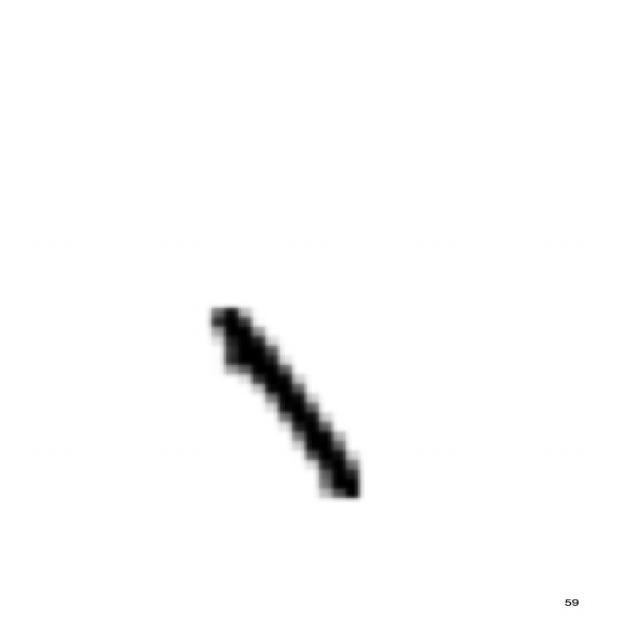1 -one-: (196, 291, 386, 515)
